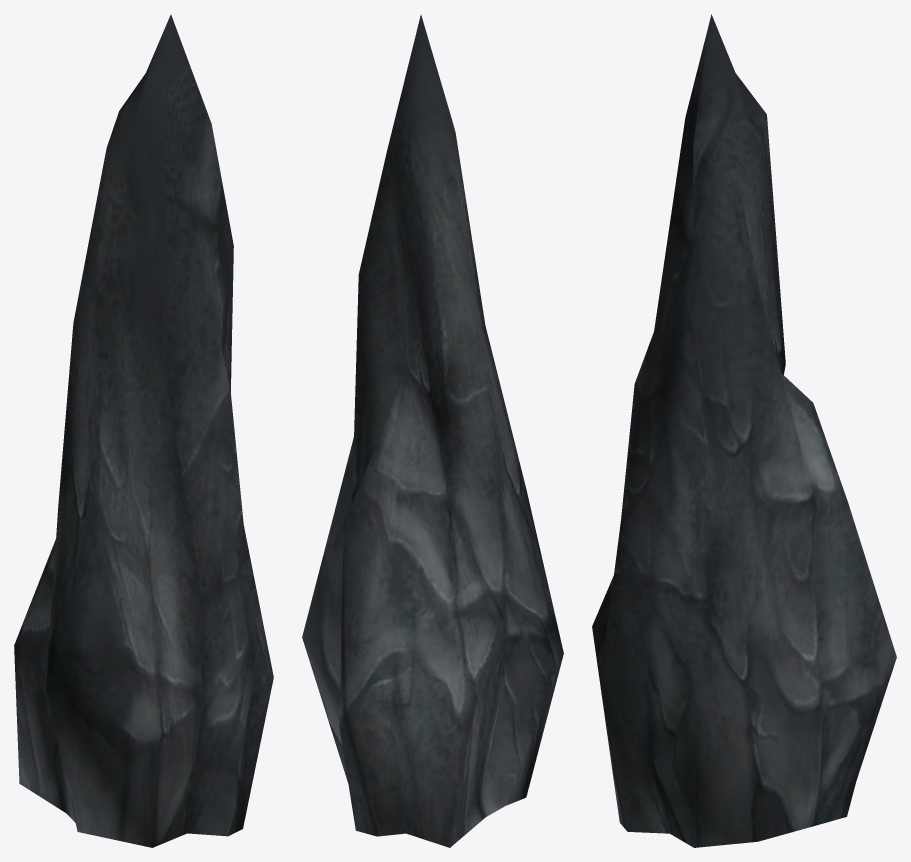
The model's file is dragonblight_rock_grey_01.obj.
3 views of the same model, side by side, from view 1: azimuth 30°, elevation 25°; view 2: azimuth 150°, elevation 25°; view 3: azimuth 270°, elevation 25° (orthographic). The views are drawn at different scales.
Parts seen in each view (by area): view 1: dragonblight_rock_grey_01; view 2: dragonblight_rock_grey_01; view 3: dragonblight_rock_grey_01.
Part boxes in pixels (left/top/right/bottom): dragonblight_rock_grey_01: left=14, top=14, right=273, bottom=847; dragonblight_rock_grey_01: left=302, top=15, right=563, bottom=847; dragonblight_rock_grey_01: left=592, top=14, right=896, bottom=847.
Bounding box in the file's own units: 7.25 × 23.66 × 8.14.
Materials: 1 (1 with a texture image).
